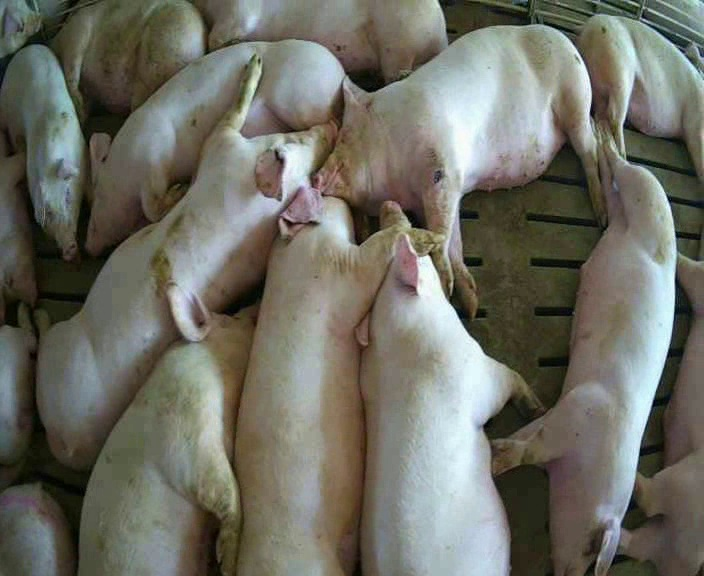pig: (32, 56, 335, 468), (493, 115, 675, 573), (317, 27, 603, 316), (235, 187, 443, 574), (87, 39, 344, 254), (80, 282, 257, 573), (621, 255, 703, 574), (577, 15, 703, 182), (0, 45, 90, 259), (50, 2, 204, 121), (0, 153, 36, 322)
